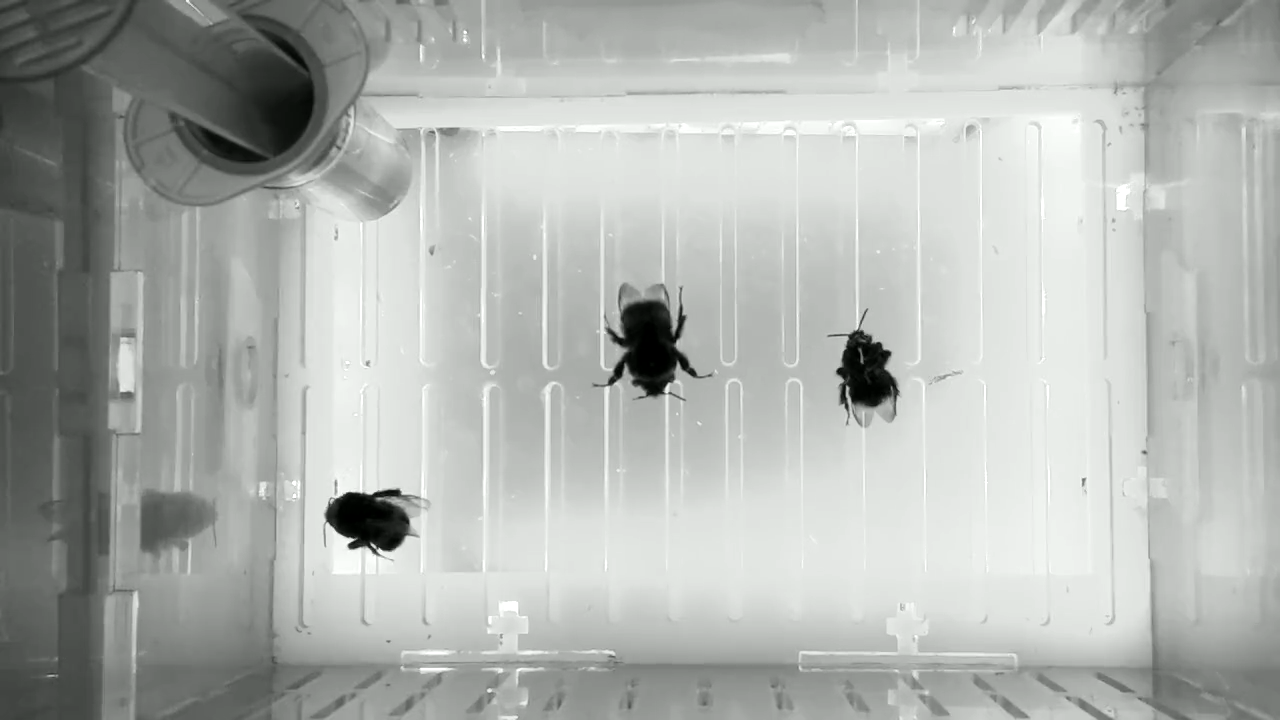bee_alive: (589, 278, 718, 406)
bee_dead: (319, 475, 435, 566), (824, 304, 903, 428)
feeder: (284, 90, 416, 227)
